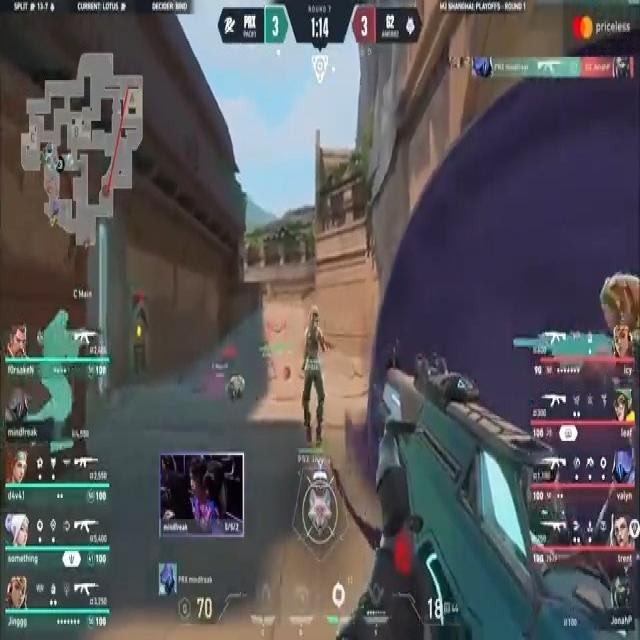ally: (298, 302, 338, 451)
smoke: (372, 36, 640, 578)
